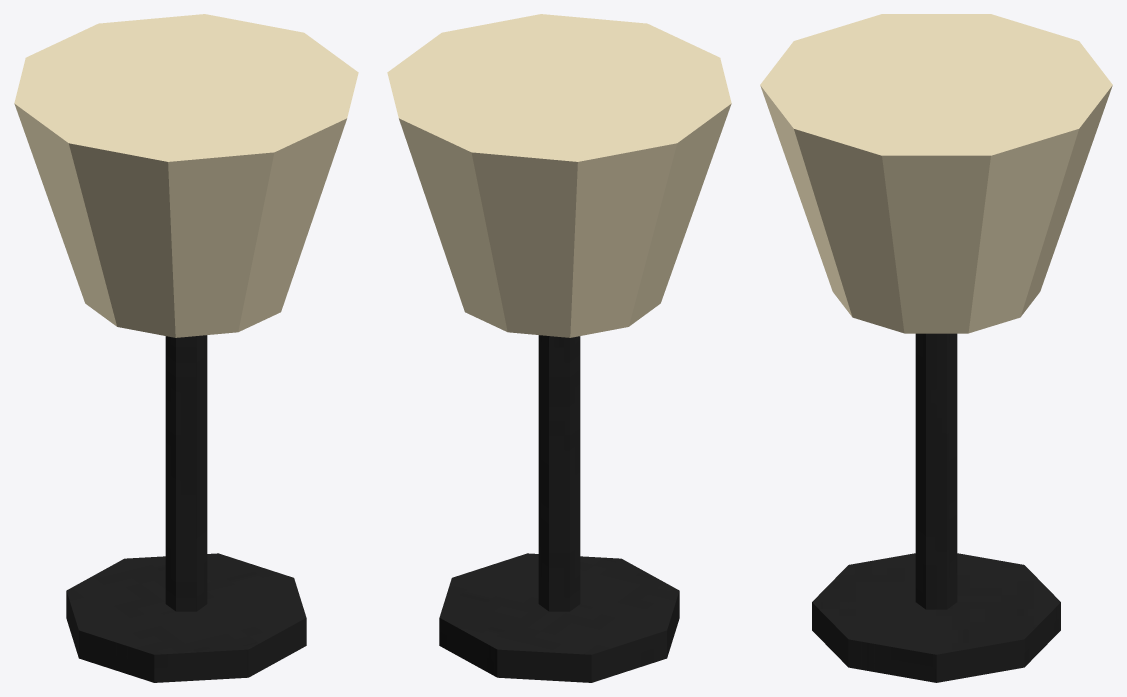
The model's file is table_lamp_01.glb.
3 views of the same model, side by side, from view 1: azimuth 30°, elevation 25°; view 2: azimuth 150°, elevation 25°; view 3: azimuth 270°, elevation 25° (orthographic).
Visible parts, largest first — view 1: table_lamp_01; view 2: table_lamp_01; view 3: table_lamp_01.
Boxes of the visible parts, x1=… form: table_lamp_01: x1=14, y1=14, x2=358, y2=682; table_lamp_01: x1=387, y1=14, x2=731, y2=682; table_lamp_01: x1=760, y1=14, x2=1112, y2=682.
Bounding box in the file's own units: 0.3234 × 0.58 × 0.34.
Materials: 2 (2 with a texture image).
